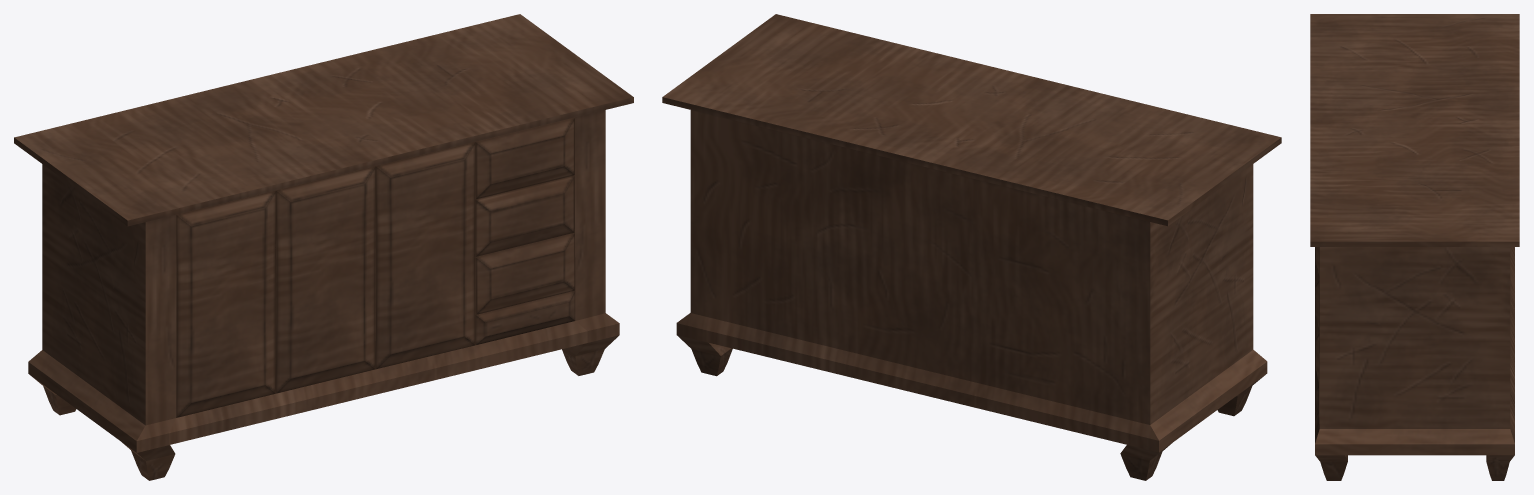
The model's file is Buffet.fbx.
3 views of the same model, side by side, from view 1: azimuth 30°, elevation 25°; view 2: azimuth 150°, elevation 25°; view 3: azimuth 270°, elevation 25° (orthographic). The views are drawn at different scales.
Parts seen in each view (by area): view 1: WoodenBuffet; view 2: WoodenBuffet; view 3: WoodenBuffet.
Part boxes in pixels (x1,y1,x2,y2): WoodenBuffet: (14,14,633,480); WoodenBuffet: (662,14,1281,480); WoodenBuffet: (1310,14,1519,480).
Bounding box in the file's own units: 198 × 103 × 77.
Materials: 1 (1 with a texture image).
